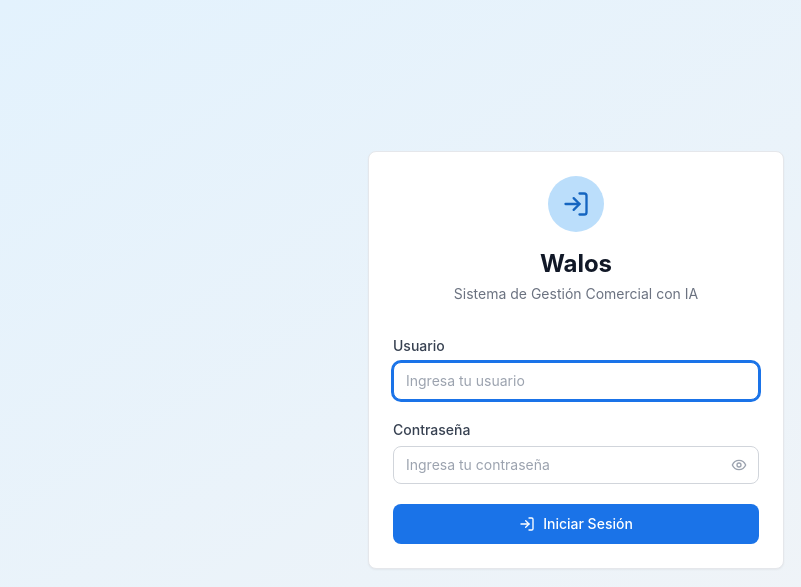
Test case: LoginPage › updates inputs and toggles password visibility
Type "usuario@example.test" into the field labelled "Usuario".
click(576, 381); type("usuario@example.test")  # box [393,362,759,400]
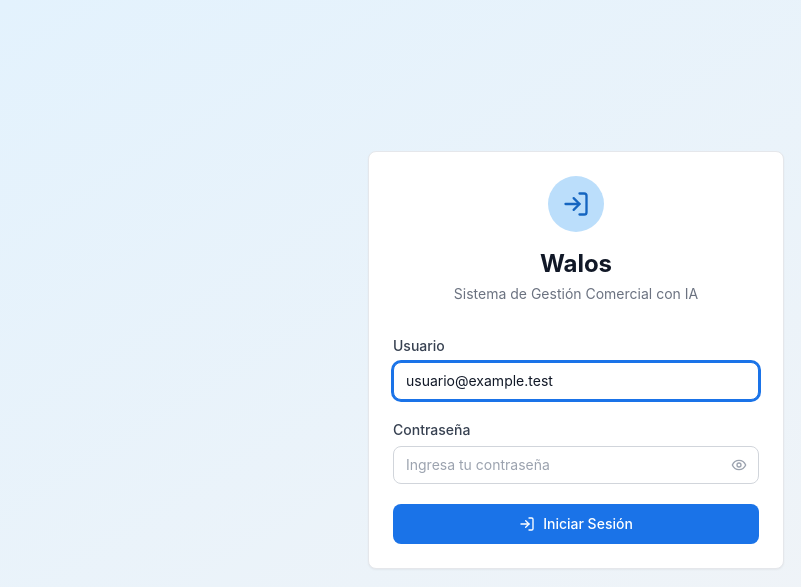
Type "clave-segura" into the password field labelled "Contraseña".
click(576, 465); type("clave-segura")  # box [393,446,759,484]
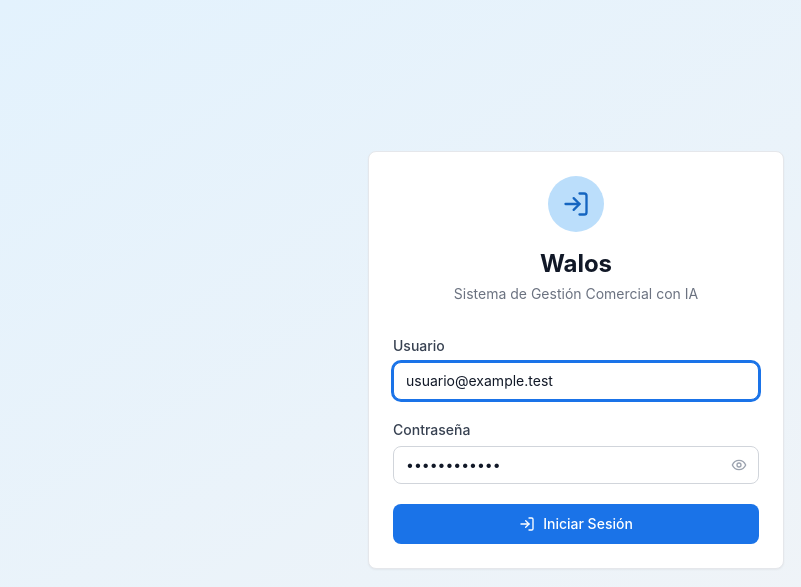
Click the 1st button.
click(739, 465)  # box [731,457,747,473]
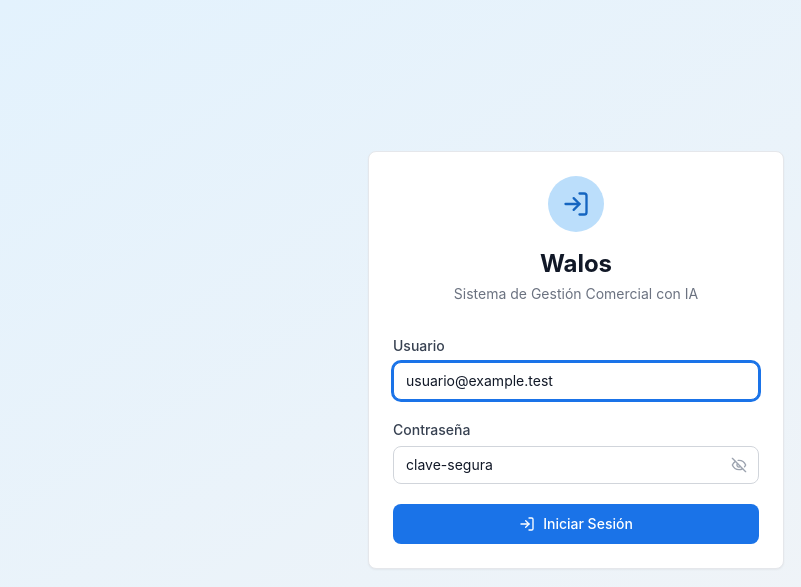
Expected: the field labelled "Contraseña" shows its text, [393,446,759,484]
